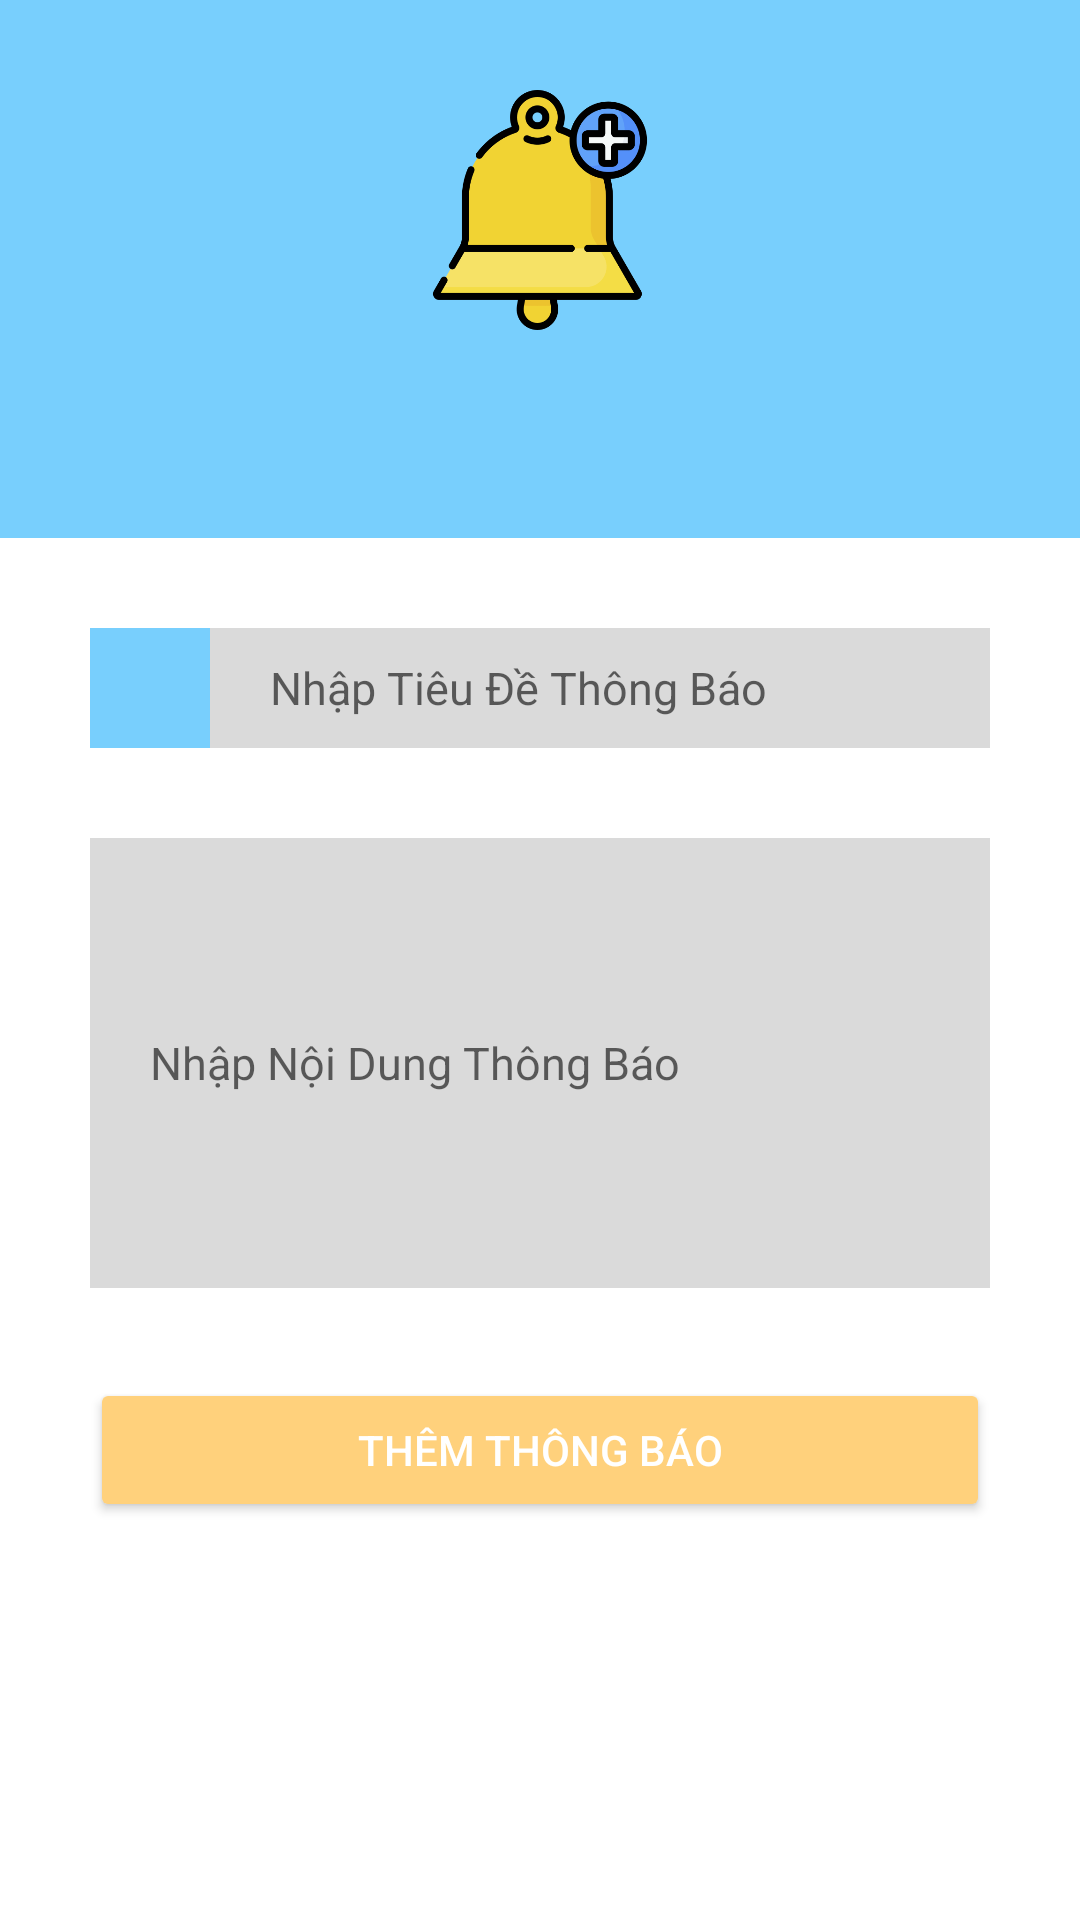

Where to tap for icons on this 1080x1920 app screen, as point (x, y):
addnotification: point (540, 210)
